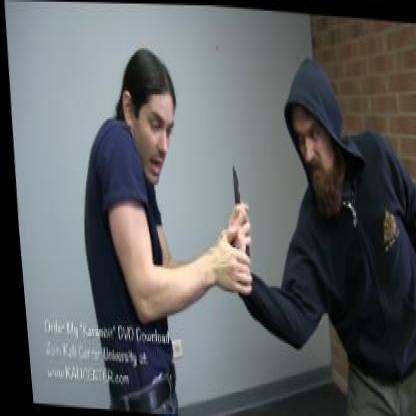knife: (218, 161, 250, 241)
